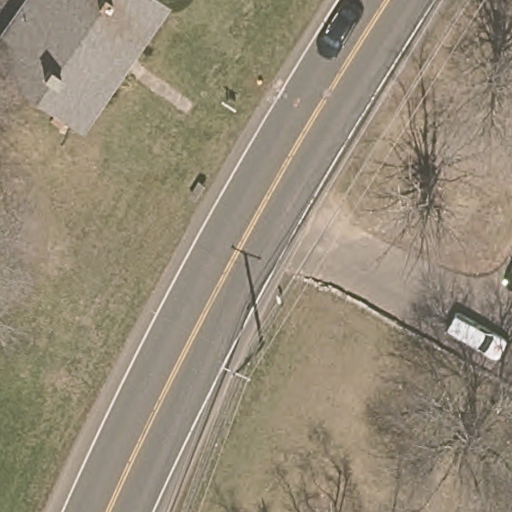DT: (221, 365, 251, 383)
